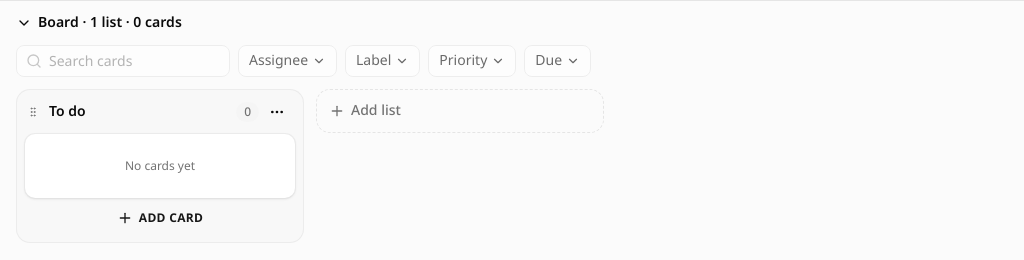
Test: BoardSection › shows counts, collapses and remembers it
Later steps or results of the test are not shown.
expect the heading "To do" is shown: met, box [49,101,86,122]
Click the button "Board · 1 list · 0 cards". click: click(99, 23)
box: [16,13,182,33]
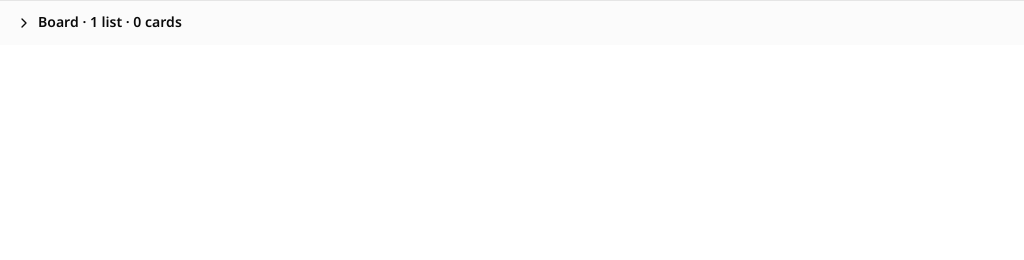
expect the heading "To do" is gone: met
expect the button "Board · 1 list · 0 cards" is collapsed: met, box [16,13,182,33]
